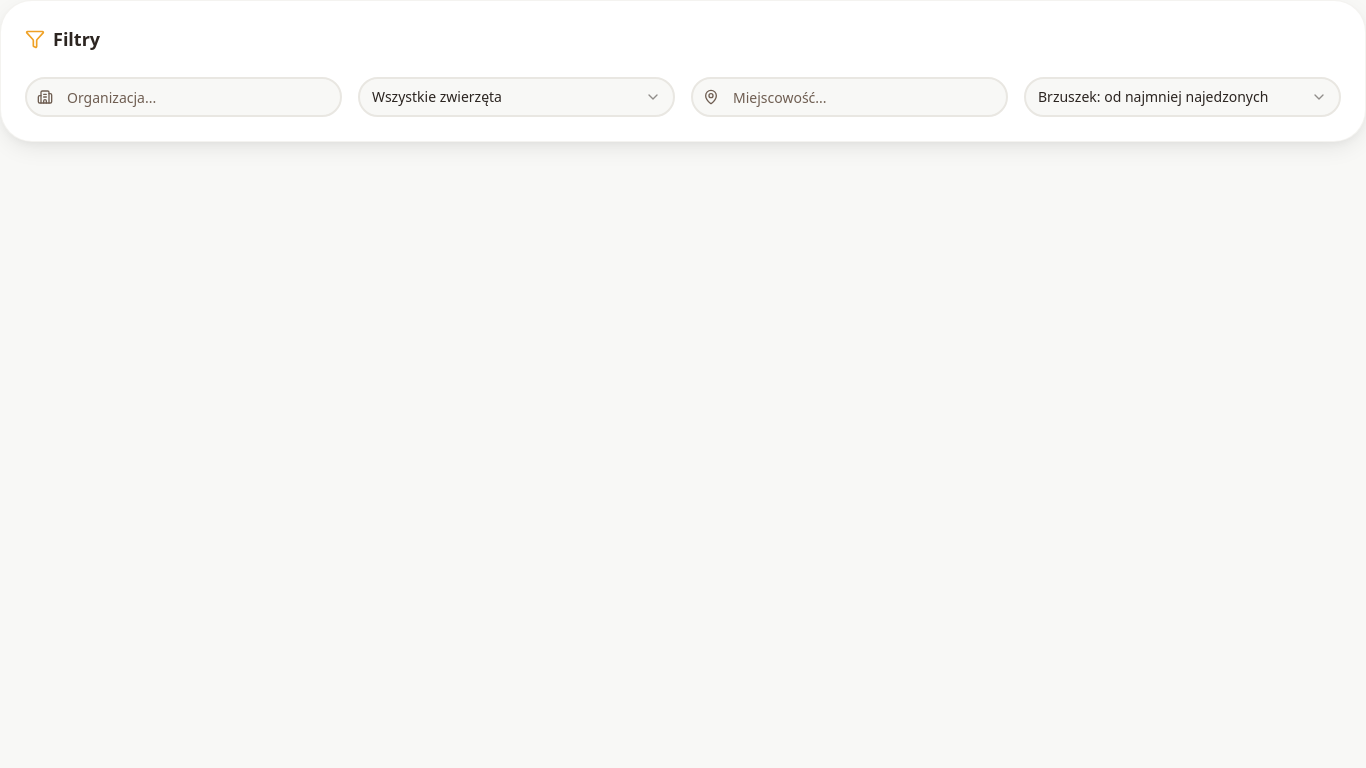
Scenario: AnimalFilters › Clear Filters › should show clear button when organization filter is active
This screenshot has width=1366, height=768.
Type "Schronisko" into the field with placeholder "Organizacja..." at point(184, 97), box [25, 77, 342, 117]
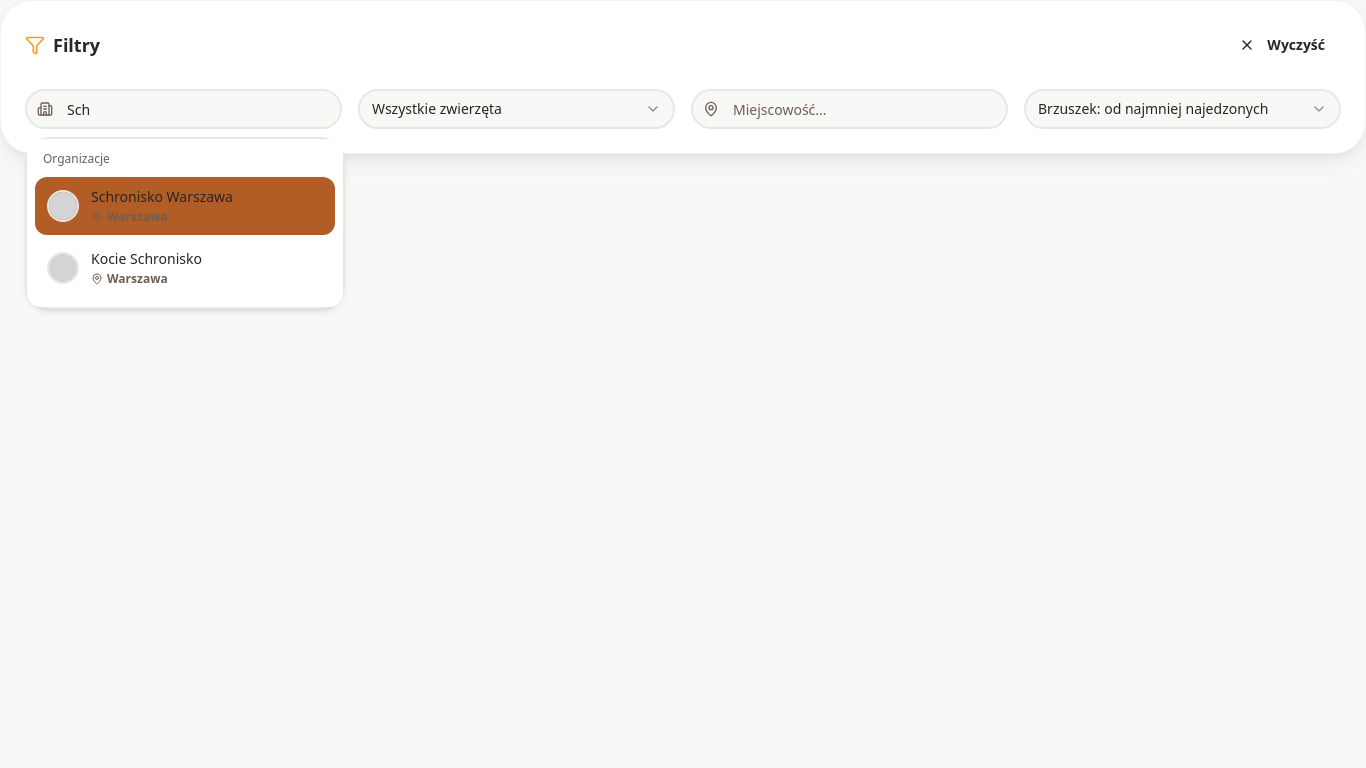
Check: the button "Wyczyść" is shown, box [1223, 25, 1341, 65]
